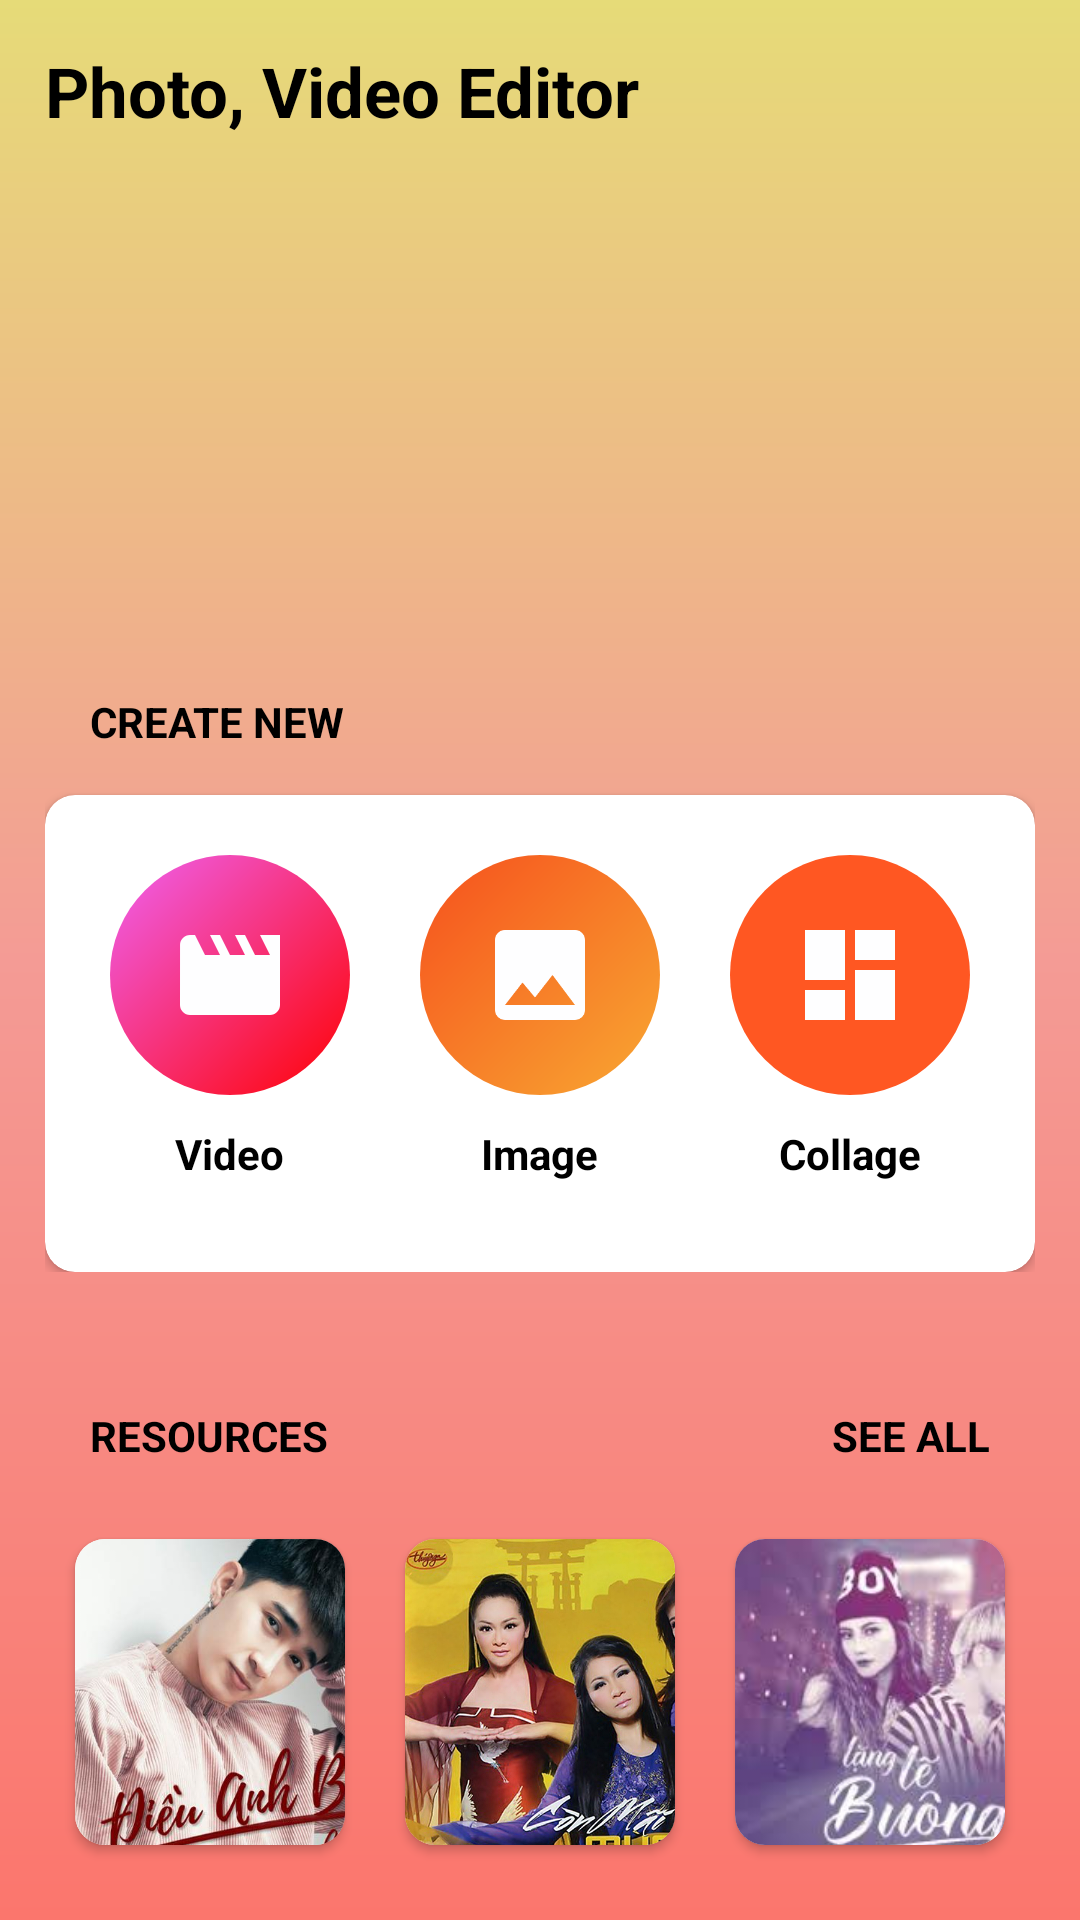

Icon click points for this 1080 × 1920 phone screenshot, format [x,y]:
dashboard: [850,975]
movie: [230,975]
